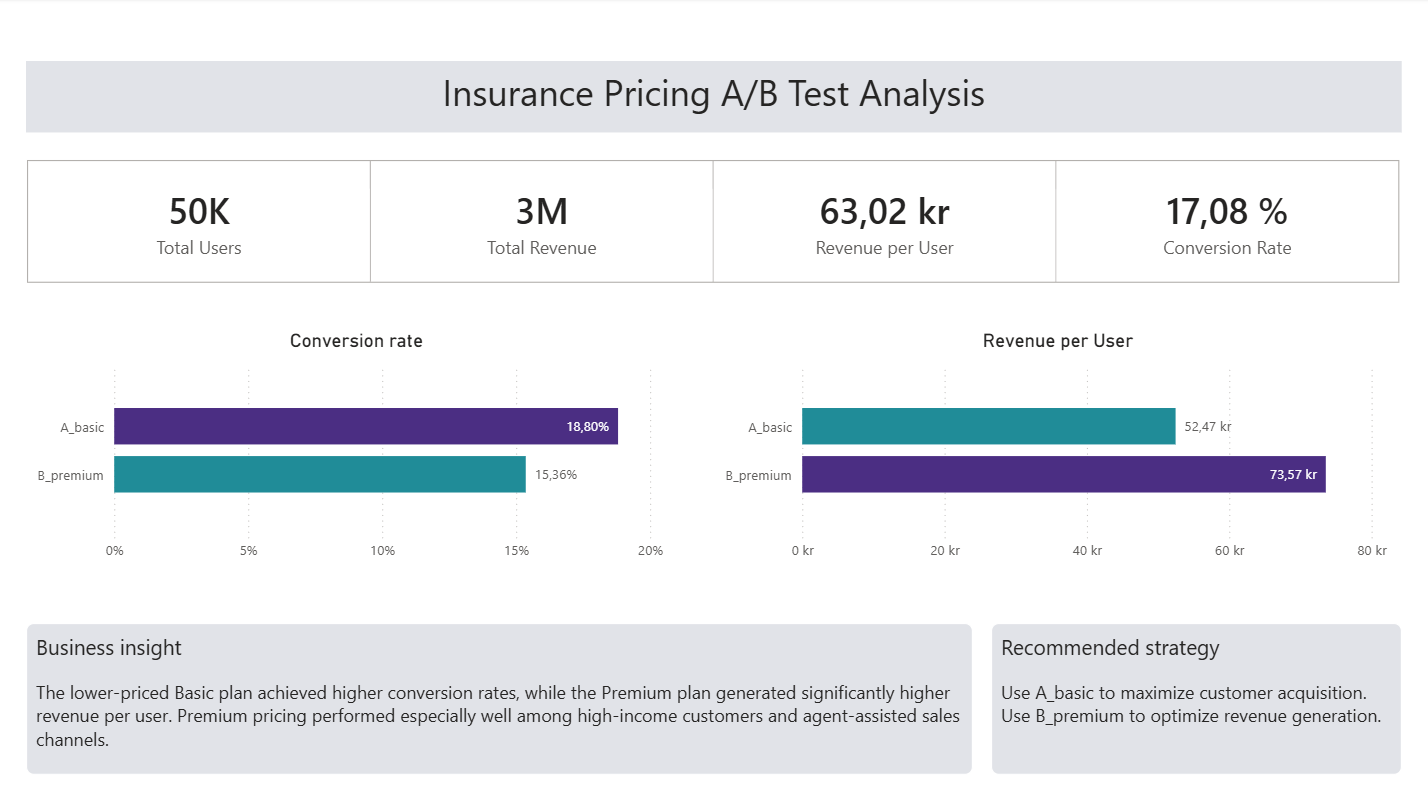

What the dashboard file says about the page in this screenshot:
{"tool":"powerbi","page":{"name":"Executive Summary","canvas":[1280,720],"ordinal":0},"visuals":[{"type":"clusteredBarChart","title":"Conversion rate","fields":{"Category":["pricing insurance_clean.test_group"],"Y":["pricing insurance_clean.Conversation_Rate"]},"box":[24,296,592,216],"z":0},{"type":"textbox","box":[24,560,848,136],"z":1000},{"type":"textbox","box":[888,560,368,136],"z":2000},{"type":"clusteredBarChart","title":"Revenue per User","fields":{"Category":["pricing insurance_clean.test_group"],"Y":["pricing insurance_clean.Revenue_per_User"]},"box":[640,296,616,216],"z":3000},{"type":"textbox","box":[800,0,464,150],"z":4000},{"type":"textbox","box":[24,56,1232,64],"z":5000},{"type":"cardVisual","fields":{"Data":["pricing insurance_clean.Total_Users","pricing insurance_clean.Total_Revenue","pricing insurance_clean.Revenue_per_User","pricing insurance_clean.Convertion_Rate"]},"box":[8,128,1264,144],"z":6000}]}

Visuals, with their boxes in screenshot pixels (x1, y1, x2, y2), scaled from the page's 1280x720 canvas onto the 1428x798 screenshot:
"Conversion rate" clusteredBarChart: l=27, t=328, r=687, b=567
textbox: l=27, t=621, r=973, b=771
textbox: l=991, t=621, r=1401, b=771
"Revenue per User" clusteredBarChart: l=714, t=328, r=1401, b=567
textbox: l=893, t=0, r=1410, b=166
textbox: l=27, t=62, r=1401, b=133
cardVisual - pricing insurance_clean.Total_Users x pricing insurance_clean.Total_Revenue: l=9, t=142, r=1419, b=301
